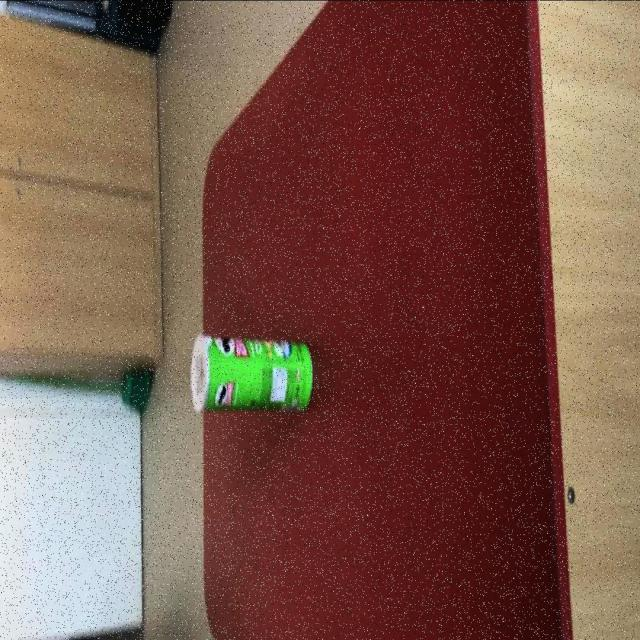Pringles: (189, 331, 313, 412)
